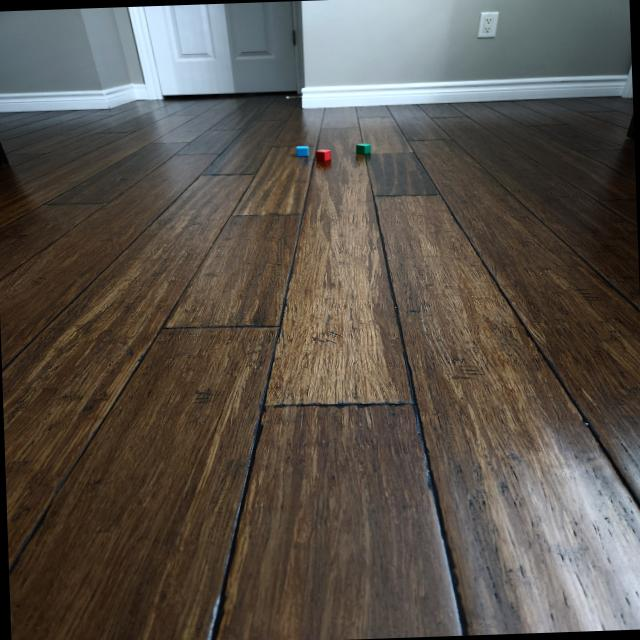bluecube: (296, 144, 310, 156)
green cube: (356, 142, 372, 155)
red cube: (316, 148, 332, 162)
